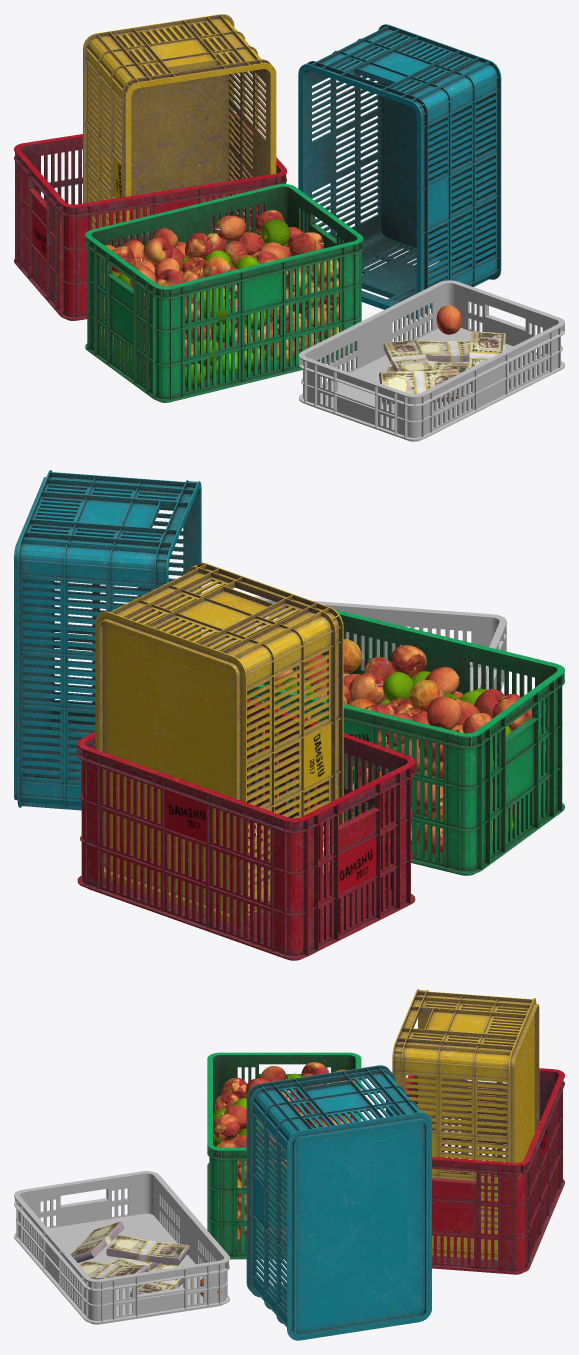
The model's file is Composition1.obj.
3 renders of one model, top to bottom at view 1: azimuth 30°, elevation 25°; view 2: azimuth 150°, elevation 25°; view 3: azimuth 270°, elevation 25°, orthographic. The views are drawn at different scales.
Visible parts, largest first — view 1: Canasta_60x40x32_Azur1, Canasta_60x40x32_Red1, Canasta_60x40x32_Gialla1, Canasta_60x40x13_Roja_1, Canasta_60x40x32_Red002, Rs505, Mela_Brown047, Peach027, Mela_Verde033, Mela048, Si1, Mela_Brown032; view 2: Canasta_60x40x32_Gialla1, Canasta_60x40x32_Red002, Canasta_60x40x32_Azur1, Canasta_60x40x32_Red1, Mela_Brown047, Canasta_60x40x13_Roja_1, Mela048, Peach027, Mela_Verde033, Si1; view 3: Canasta_60x40x32_Azur1, Canasta_60x40x32_Gialla1, Canasta_60x40x13_Roja_1, Canasta_60x40x32_Red002, Canasta_60x40x32_Red1, Rs505, Mela048, Mela_Brown047, Mela_Verde033.
Part boxes in pixels (box(x1,y1,x2,y2)): Canasta_60x40x32_Azur1: box(298, 24, 501, 319); Canasta_60x40x32_Red1: box(85, 184, 363, 402); Canasta_60x40x32_Gialla1: box(83, 14, 276, 244); Canasta_60x40x13_Roja_1: box(299, 280, 564, 441); Canasta_60x40x32_Red002: box(14, 113, 286, 320); Rs505: box(379, 331, 505, 404); Mela_Brown047: box(122, 215, 323, 373); Peach027: box(101, 233, 338, 363); Mela_Verde033: box(104, 219, 319, 388); Mela048: box(112, 210, 338, 366); Si1: box(143, 237, 184, 286); Mela_Brown032: box(436, 305, 462, 334); Canasta_60x40x32_Gialla1: box(95, 562, 343, 924); Canasta_60x40x32_Red002: box(77, 699, 415, 960); Canasta_60x40x32_Azur1: box(14, 470, 201, 810); Canasta_60x40x32_Red1: box(247, 609, 564, 875); Mela_Brown047: box(263, 654, 529, 854); Canasta_60x40x13_Roja_1: box(202, 596, 506, 691); Mela048: box(256, 645, 545, 845); Peach027: box(315, 639, 497, 845); Mela_Verde033: box(281, 666, 521, 839); Si1: box(427, 688, 509, 729); Canasta_60x40x32_Azur1: box(246, 1065, 431, 1340); Canasta_60x40x32_Gialla1: box(392, 989, 539, 1260); Canasta_60x40x13_Roja_1: box(14, 1171, 229, 1324); Canasta_60x40x32_Red002: box(406, 1068, 564, 1274); Canasta_60x40x32_Red1: box(207, 1052, 361, 1259); Rs505: box(70, 1221, 189, 1297); Mela048: box(213, 1062, 350, 1237); Mela_Brown047: box(222, 1066, 355, 1246); Mela_Verde033: box(213, 1073, 312, 1227).
Bounding box in the file's own units: 1106 × 619 × 1431.
